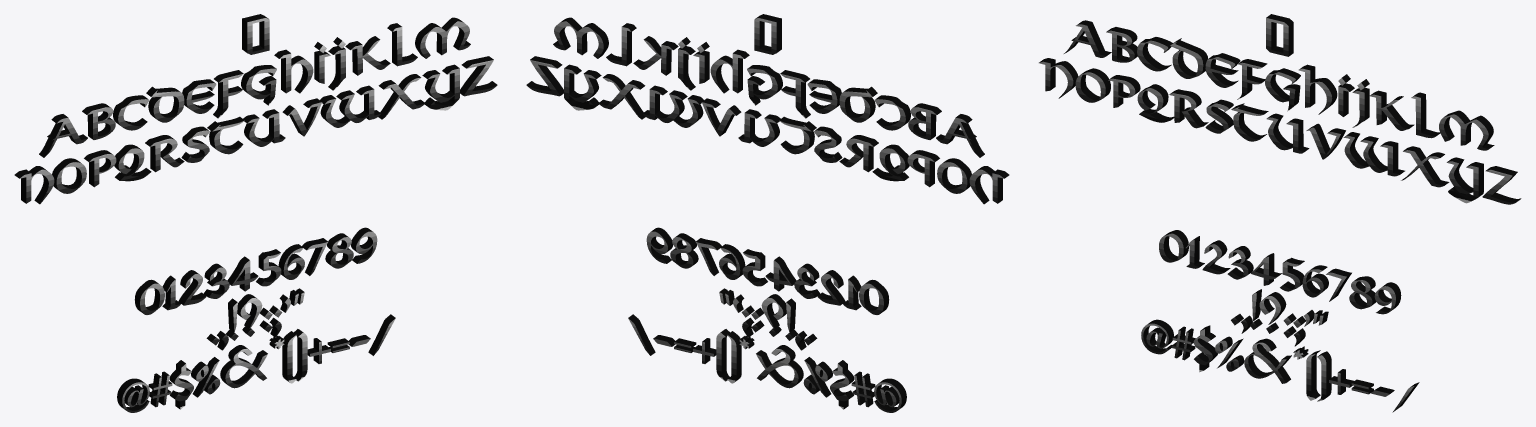
The model's file is font.medieval.fbx.
The picture shows the model from 3 angles, left to right: view 1: azimuth 30°, elevation 25°; view 2: azimuth 150°, elevation 25°; view 3: azimuth 330°, elevation 25°; orthographic projection.
Visible parts, largest first — view 1: MESH medieval.upper.w, MESH medieval.upper.m, MESH medieval.upper.y, MESH medieval.symbol.ampersand, MESH medieval.upper.h, MESH medieval.replacement, MESH medieval.symbol.at, MESH medieval.upper.u, MESH medieval.upper.g, MESH medieval.upper.d, MESH medieval.upper.q, MESH medieval.upper.z (+32 smaller); view 2: MESH medieval.upper.w, MESH medieval.upper.m, MESH medieval.upper.y, MESH medieval.symbol.ampersand, MESH medieval.upper.h, MESH medieval.replacement, MESH medieval.symbol.at, MESH medieval.upper.u, MESH medieval.upper.g, MESH medieval.upper.d, MESH medieval.upper.q, MESH medieval.upper.z (+32 smaller); view 3: MESH medieval.upper.w, MESH medieval.upper.m, MESH medieval.symbol.ampersand, MESH medieval.upper.y, MESH medieval.replacement, MESH medieval.upper.u, MESH medieval.upper.g, MESH medieval.upper.d, MESH medieval.upper.h, MESH medieval.symbol.at, MESH medieval.upper.r, MESH medieval.upper.q (+31 smaller).
Part boxes in pixels (x1=…): MESH medieval.upper.w: x1=320, y1=85, x2=381, y2=127; MESH medieval.upper.m: x1=415, y1=17, x2=470, y2=58; MESH medieval.upper.y: x1=422, y1=64, x2=459, y2=110; MESH medieval.symbol.ampersand: x1=220, y1=345, x2=267, y2=388; MESH medieval.upper.h: x1=274, y1=49, x2=313, y2=93; MESH medieval.replacement: x1=242, y1=14, x2=269, y2=54; MESH medieval.symbol.at: x1=117, y1=378, x2=149, y2=412; MESH medieval.upper.u: x1=243, y1=109, x2=285, y2=146; MESH medieval.upper.g: x1=241, y1=65, x2=276, y2=105; MESH medieval.upper.d: x1=146, y1=86, x2=184, y2=122; MESH medieval.upper.q: x1=114, y1=144, x2=151, y2=181; MESH medieval.upper.z: x1=460, y1=56, x2=497, y2=96; MESH medieval.upper.w: x1=642, y1=85, x2=703, y2=127; MESH medieval.upper.m: x1=553, y1=17, x2=608, y2=58; MESH medieval.upper.y: x1=564, y1=64, x2=601, y2=110; MESH medieval.symbol.ampersand: x1=756, y1=345, x2=803, y2=388; MESH medieval.upper.h: x1=710, y1=49, x2=749, y2=93; MESH medieval.replacement: x1=754, y1=14, x2=781, y2=54; MESH medieval.symbol.at: x1=874, y1=378, x2=906, y2=412; MESH medieval.upper.u: x1=738, y1=109, x2=780, y2=146; MESH medieval.upper.g: x1=747, y1=65, x2=782, y2=105; MESH medieval.upper.d: x1=839, y1=86, x2=877, y2=122; MESH medieval.upper.q: x1=872, y1=144, x2=909, y2=181; MESH medieval.upper.z: x1=526, y1=56, x2=563, y2=96; MESH medieval.upper.w: x1=1343, y1=132, x2=1404, y2=176; MESH medieval.upper.m: x1=1439, y1=110, x2=1494, y2=150; MESH medieval.symbol.ampersand: x1=1244, y1=338, x2=1291, y2=383; MESH medieval.upper.y: x1=1446, y1=157, x2=1483, y2=203; MESH medieval.replacement: x1=1266, y1=14, x2=1293, y2=56; MESH medieval.upper.u: x1=1266, y1=113, x2=1309, y2=153; MESH medieval.upper.g: x1=1265, y1=68, x2=1300, y2=111; MESH medieval.upper.d: x1=1170, y1=38, x2=1207, y2=78; MESH medieval.upper.h: x1=1298, y1=64, x2=1337, y2=114; MESH medieval.symbol.at: x1=1141, y1=319, x2=1173, y2=354; MESH medieval.upper.r: x1=1169, y1=89, x2=1208, y2=128; MESH medieval.upper.q: x1=1137, y1=84, x2=1174, y2=122.
Bounding box in the file's own units: 2130 × 40 × 1585.
Materials: 2 (1 with a texture image).
